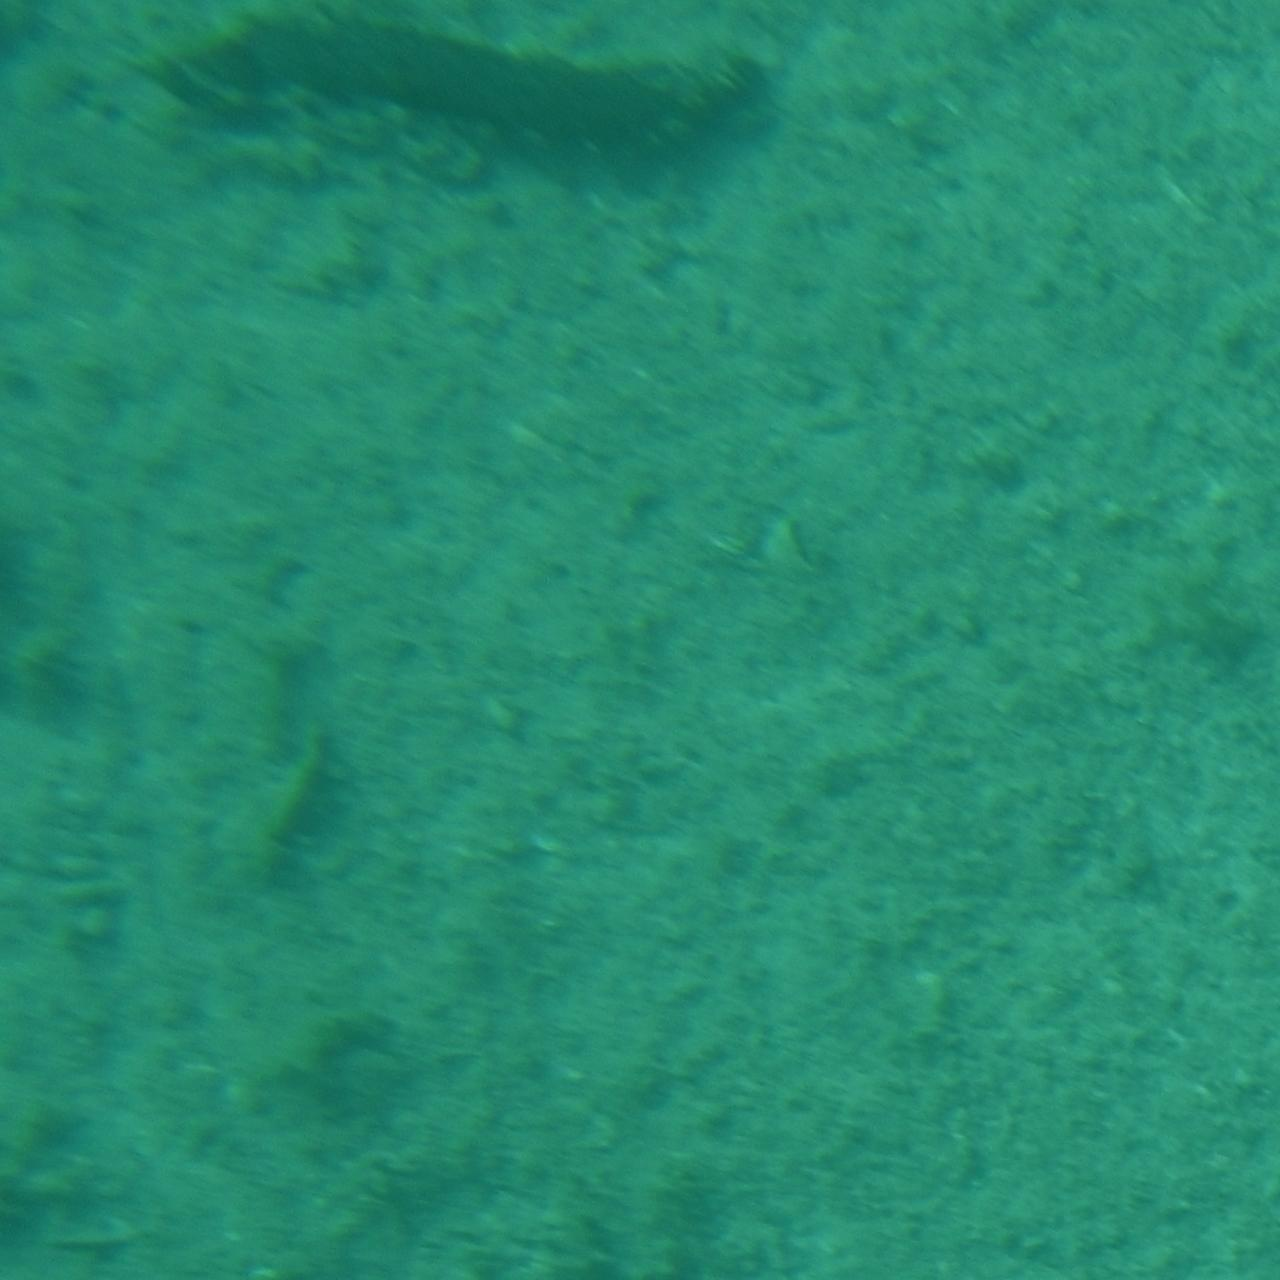Holothuria tubulosa: (115, 0, 781, 176)
